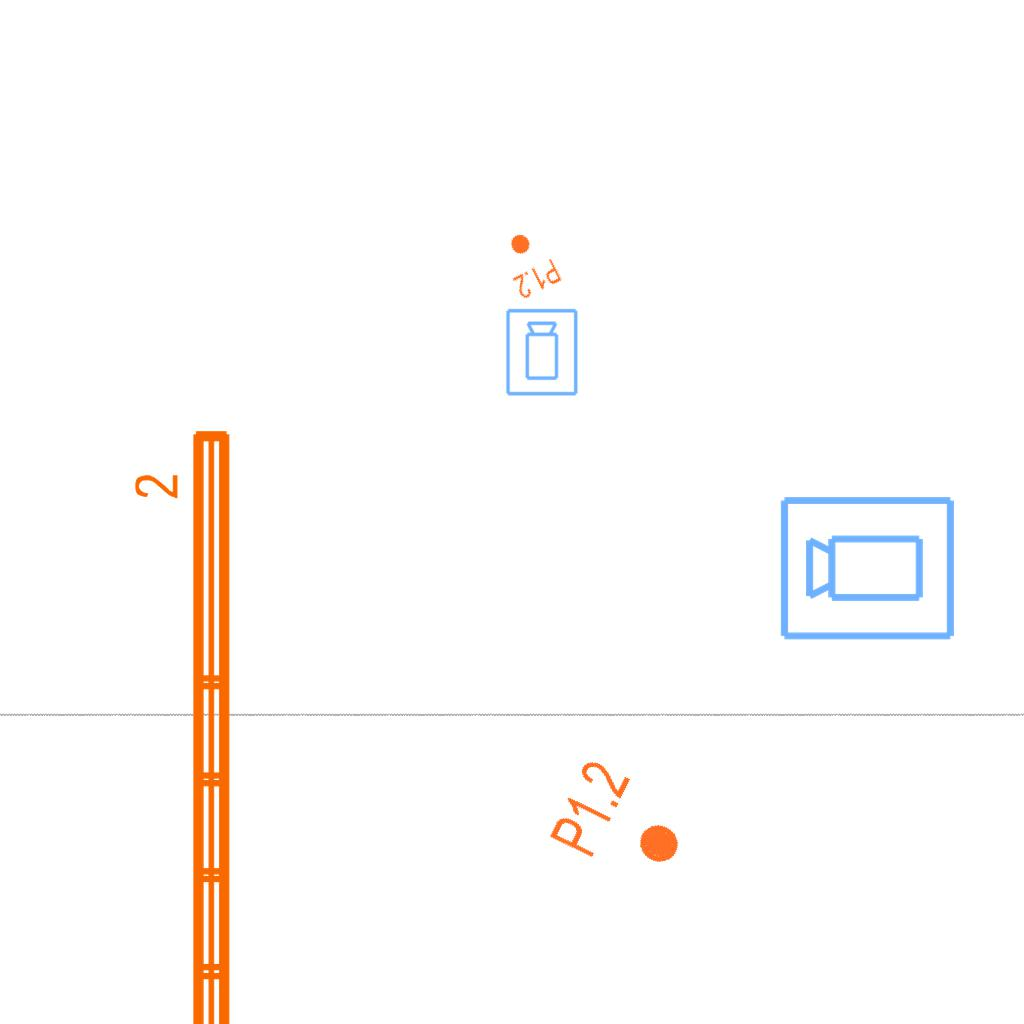Ambulanz_Pendelleuchte_LED: (130, 422, 242, 1024)
Downlight_LED_Einbauleuchten_Flur: (544, 754, 701, 894), (493, 224, 565, 302)
KFO_Kamera_mit_Festobjektiv: (777, 490, 959, 644), (504, 307, 581, 398)
